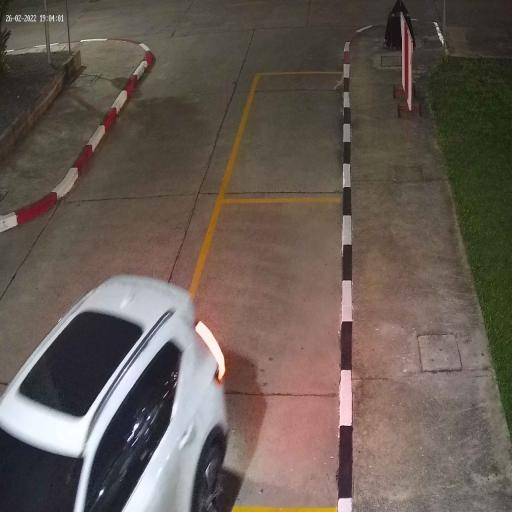car: (0, 274, 228, 512)
